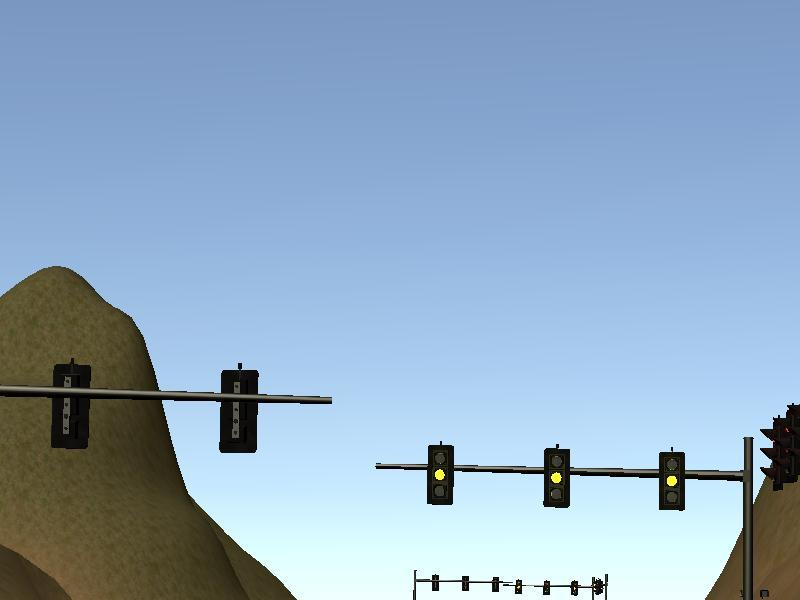Yellow: (658, 452, 686, 511), (543, 448, 570, 509), (427, 445, 454, 505)
